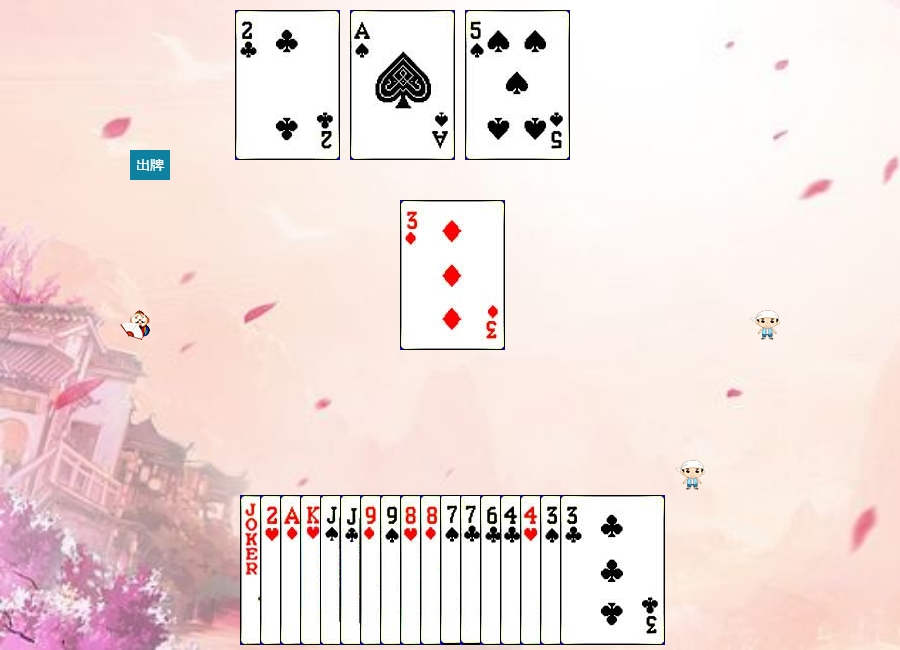11~2: (340, 495, 445, 645)
11~4: (320, 495, 425, 645)
13~3: (300, 495, 405, 645)
14~1: (280, 495, 385, 645)
14~4: (350, 10, 455, 160)
15~2: (235, 10, 340, 160)
15~3: (260, 495, 365, 645)
18~4: (240, 495, 345, 645)
3~1: (400, 200, 505, 350)
3~2: (560, 495, 665, 645)
3~4: (540, 495, 645, 645)
4~2: (500, 495, 605, 645)
4~3: (520, 495, 625, 645)
5~4: (465, 10, 570, 160)
6~2: (480, 495, 585, 645)
7~2: (460, 495, 565, 645)
7~4: (440, 495, 545, 645)
8~1: (420, 495, 525, 645)
8~3: (400, 495, 505, 645)
9~1: (360, 495, 465, 645)
9~4: (380, 495, 485, 645)
